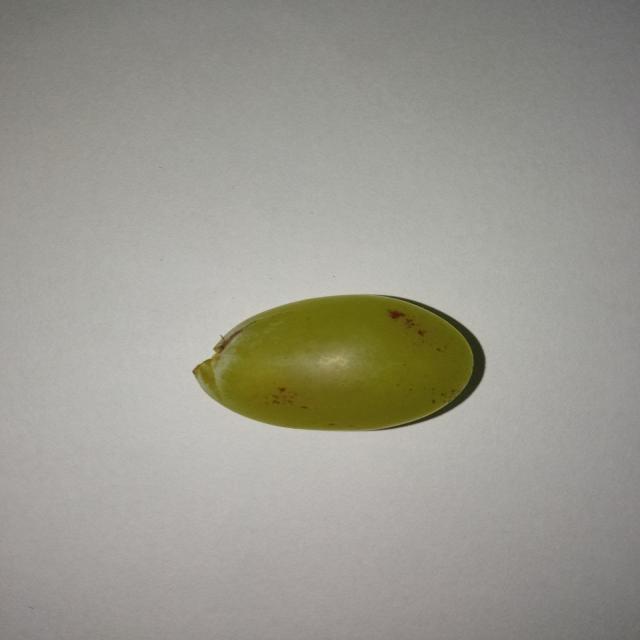fresh_grape: (191, 292, 472, 430)
